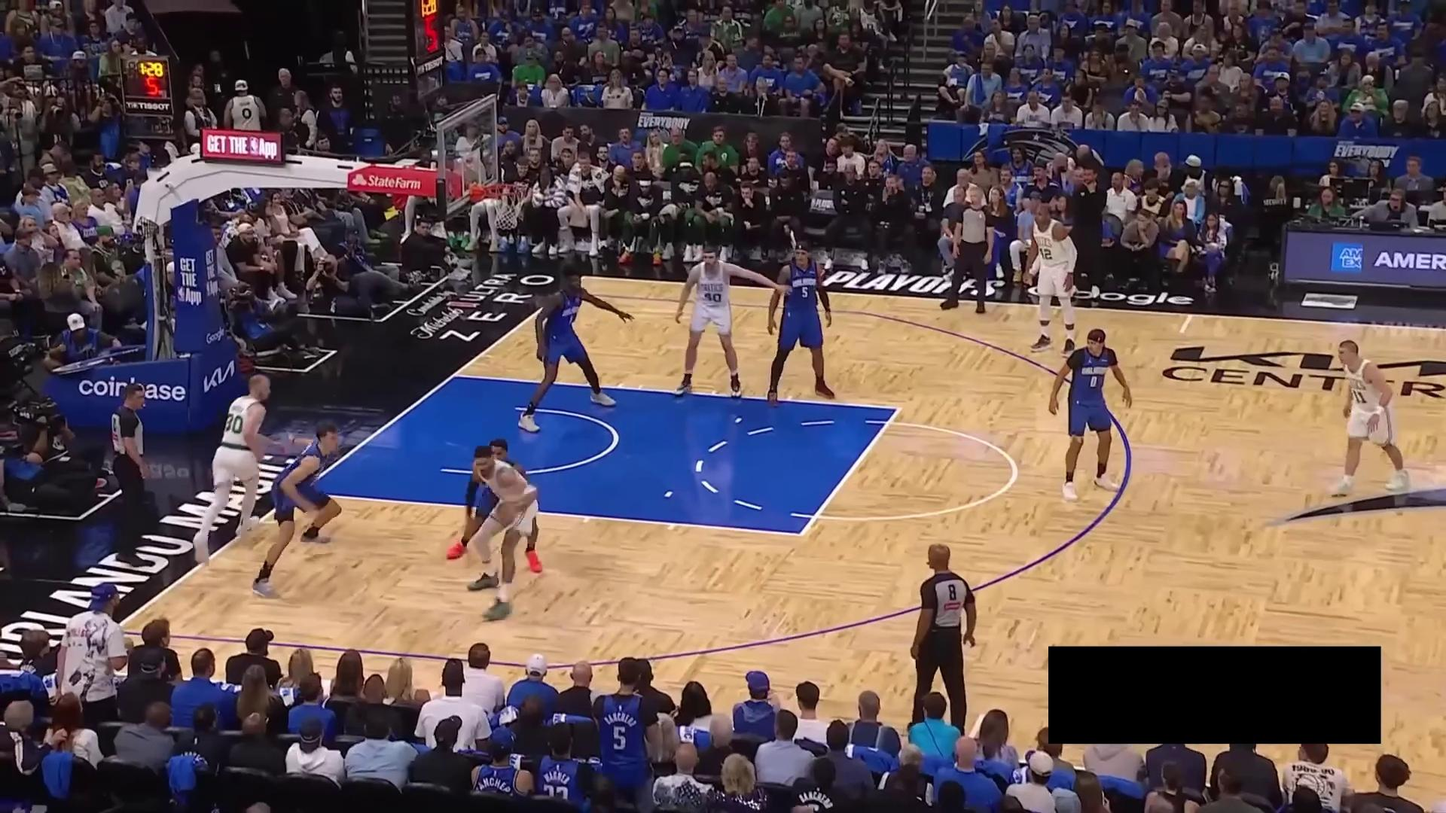ball: (495, 501, 519, 528)
number: (224, 412, 244, 434), (702, 289, 722, 304), (1353, 388, 1368, 404), (1039, 247, 1054, 259), (801, 286, 809, 298), (1090, 376, 1098, 388)
player: (516, 264, 635, 433), (671, 242, 794, 400), (250, 419, 348, 603), (189, 367, 272, 568), (1046, 321, 1136, 504), (442, 435, 548, 574), (1331, 336, 1412, 498), (766, 241, 837, 410), (1018, 196, 1088, 358)
player-in-possession: (465, 443, 540, 624)
referee: (904, 536, 982, 732), (110, 381, 160, 570), (936, 185, 1000, 316)
rim: (486, 180, 530, 199)
